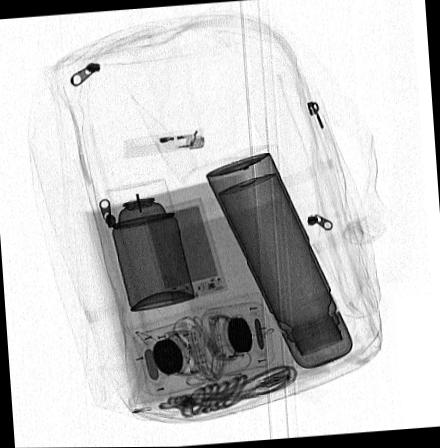Lighter: (123, 128, 206, 157)
Powerbank: (140, 198, 228, 305)
Sprayer: (104, 177, 194, 311)
